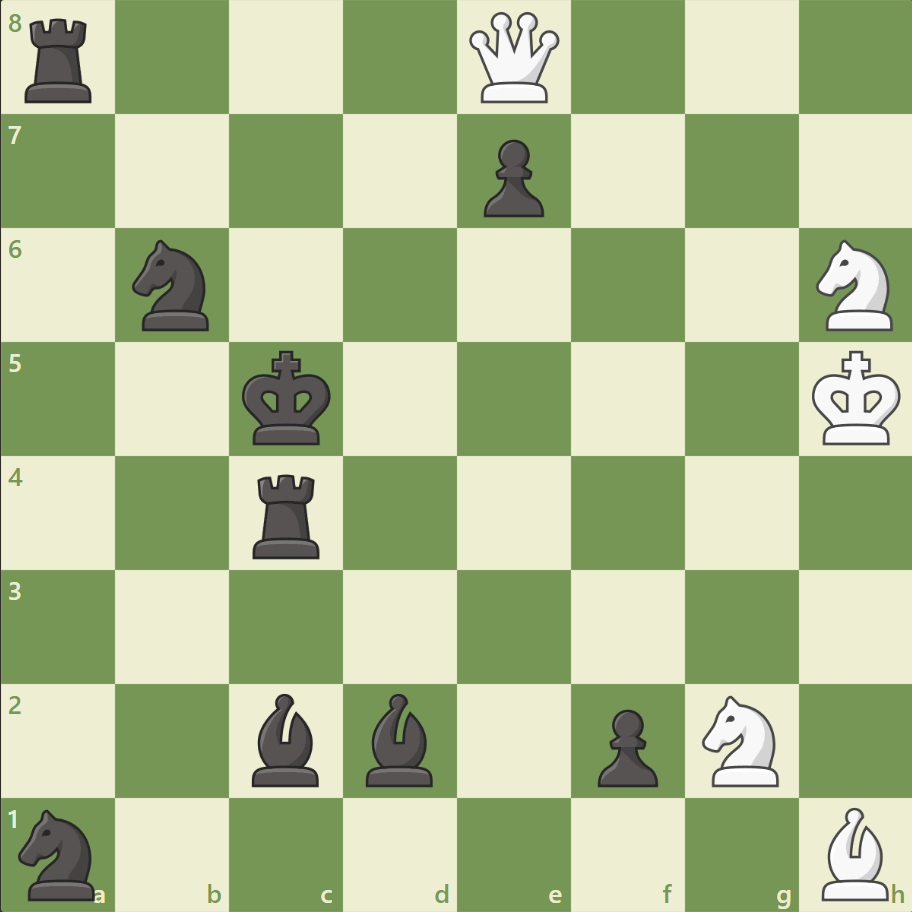B: (812, 801, 896, 904)
K: (806, 344, 906, 452)
N: (806, 234, 903, 337), (692, 688, 789, 791)
Q: (464, 9, 563, 108)
b: (244, 687, 328, 790), (358, 687, 442, 790)
k: (238, 344, 338, 452)
n: (124, 234, 222, 337), (11, 802, 108, 904)
p: (474, 132, 549, 223), (588, 700, 662, 791)
r: (19, 12, 102, 109), (246, 466, 329, 563)
